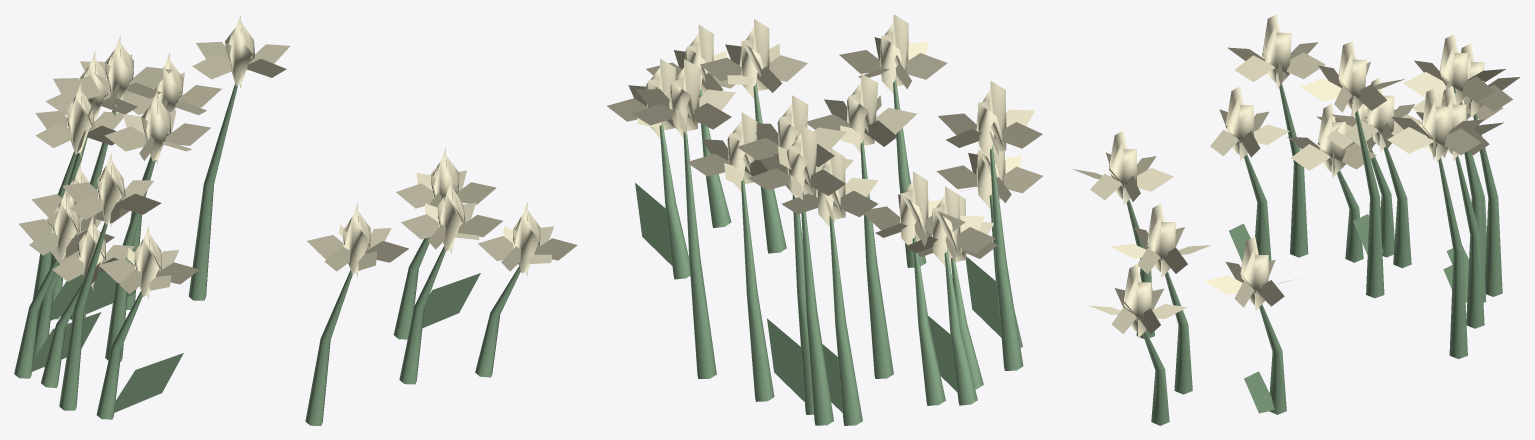
File: golden_daisy.glb
3 views of the same model, side by side, from view 1: azimuth 30°, elevation 25°; view 2: azimuth 150°, elevation 25°; view 3: azimuth 270°, elevation 25° (orthographic). The views are drawn at different scales.
Visible parts, largest first — view 1: golden_daisy; view 2: golden_daisy; view 3: golden_daisy.
Part boxes in pixels (left/top/right/bottom): golden_daisy: left=14, top=15, right=577, bottom=425; golden_daisy: left=607, top=14, right=1042, bottom=425; golden_daisy: left=1072, top=14, right=1520, bottom=425.
Size of the model in its own units: 1.33 by 0.8426 by 1.21.
